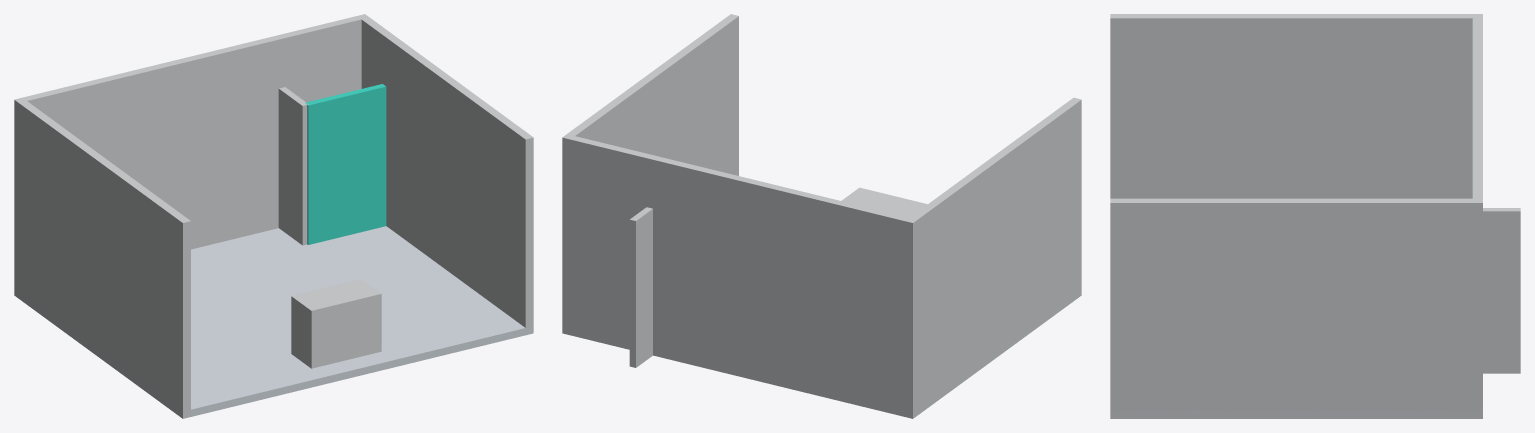
The picture shows the model from 3 angles, left to right: view 1: azimuth 30°, elevation 25°; view 2: azimuth 150°, elevation 25°; view 3: azimuth 270°, elevation 25°; orthographic projection. The views are drawn at different scales.
Parts seen in each view (by area): view 1: Exhibition Booth Concept; view 2: Exhibition Booth Concept; view 3: Exhibition Booth Concept.
Part boxes in pixels (box(x1,y1,x2,y2)): Exhibition Booth Concept: box(14, 14, 533, 418); Exhibition Booth Concept: box(562, 14, 1081, 418); Exhibition Booth Concept: box(1110, 14, 1520, 418).
Size of the model in its own units: 6 by 3.2 by 5.51.
